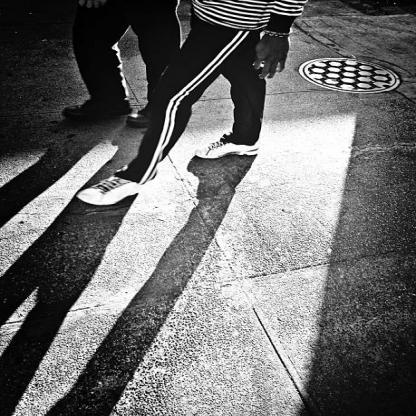manholes: (293, 40, 407, 104)
